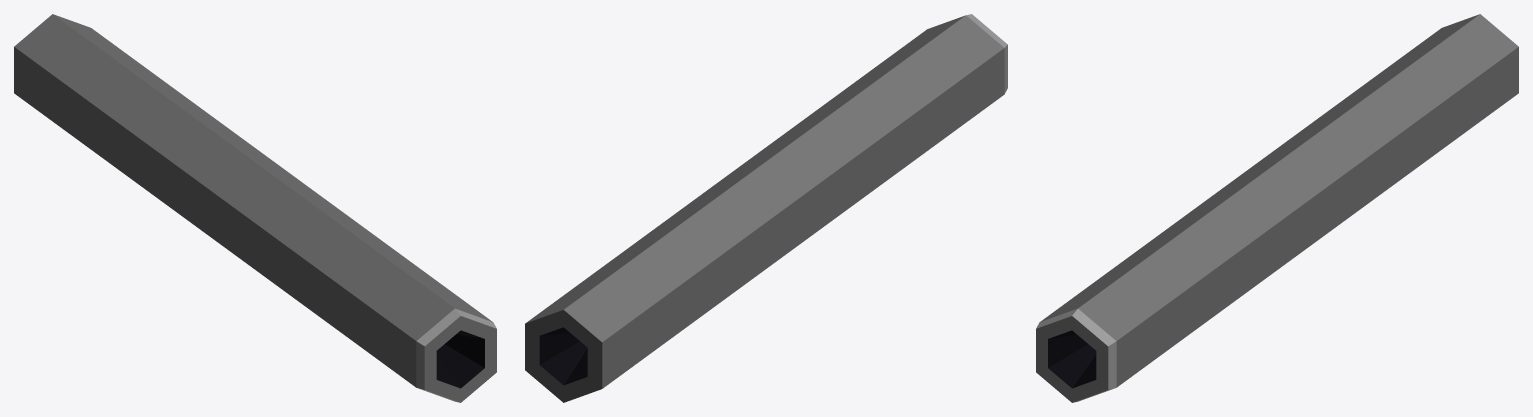
The model's file is MW1_Barrel_9mm_4.5in_01.fbx.
3 views of the same model, side by side, from view 1: azimuth 30°, elevation 25°; view 2: azimuth 150°, elevation 25°; view 3: azimuth 330°, elevation 25° (orthographic).
Parts seen in each view (by area): view 1: Barrel_9mm_4.5in_01; view 2: Barrel_9mm_4.5in_01; view 3: Barrel_9mm_4.5in_01.
Part boxes in pixels (x1,y1,x2,y2): Barrel_9mm_4.5in_01: (14, 14, 496, 402); Barrel_9mm_4.5in_01: (525, 14, 1007, 402); Barrel_9mm_4.5in_01: (1036, 14, 1518, 402).
Size of the model in its own units: 1.25 by 1.44 by 11.43.
